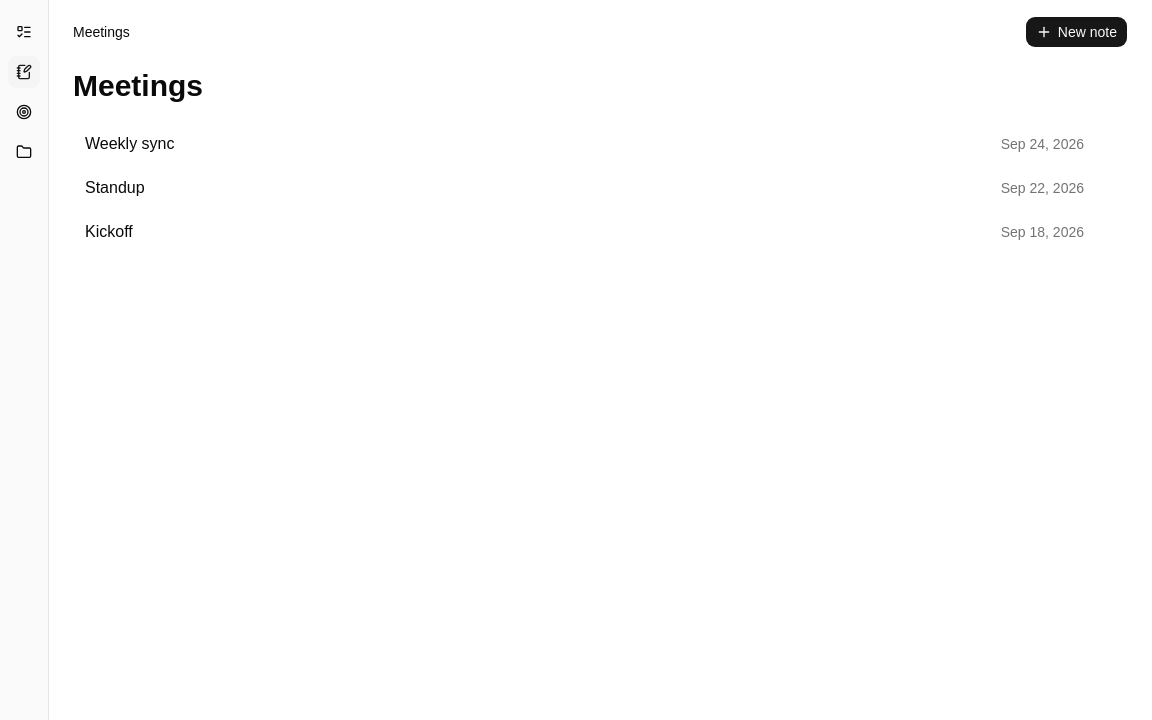
Test: Delete meetings › from the editor page › deletes the meeting, opens the Meetings page, and shows the toast
What coordinates should you click on to do the following:
click the link "Standup Sep 22, 2026"
I would click on:
 (115, 188)
Its box is left=85, top=179, right=1084, bottom=196.
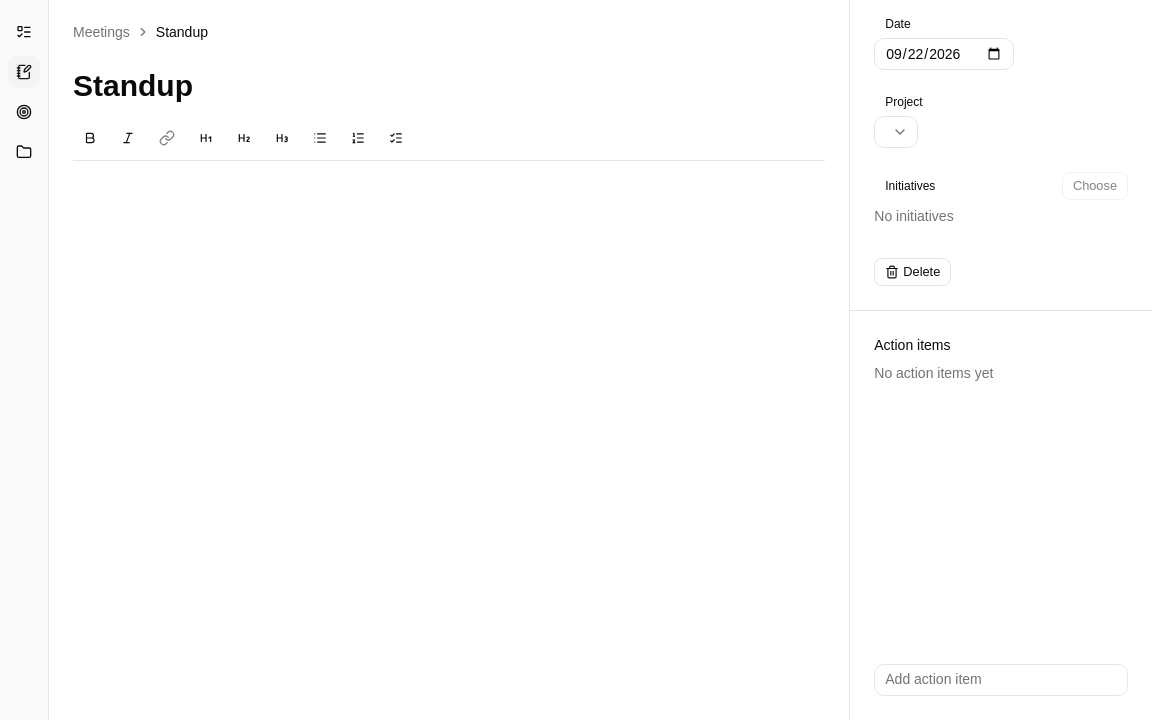
What coordinates should you click on to do the following:
click the button "Delete"
I would click on:
 (913, 272)
Its box is left=874, top=258, right=951, bottom=286.
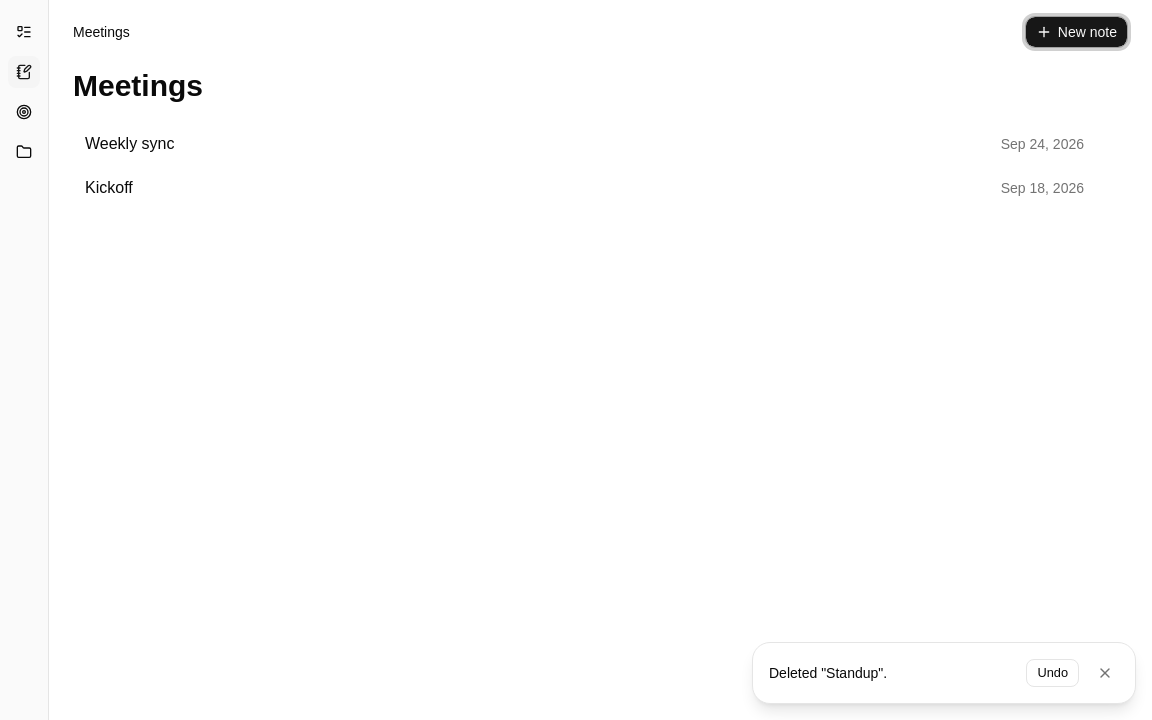
Expected: the heading "Meetings" is shown, left=73, top=69, right=203, bottom=102
Expected: the heading "Deleted \"Standup\"." is shown, left=769, top=665, right=887, bottom=681
Expected: the button "Undo" is shown, left=1026, top=659, right=1079, bottom=687
